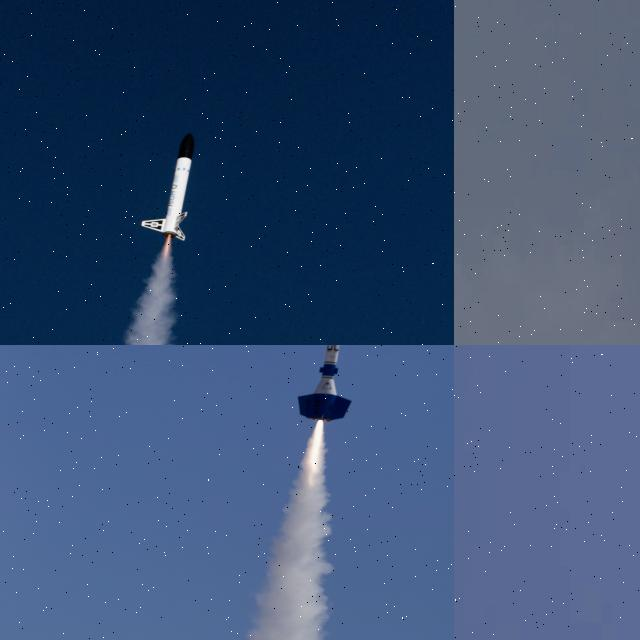Rocket: (141, 132, 196, 242), (296, 345, 353, 422)
